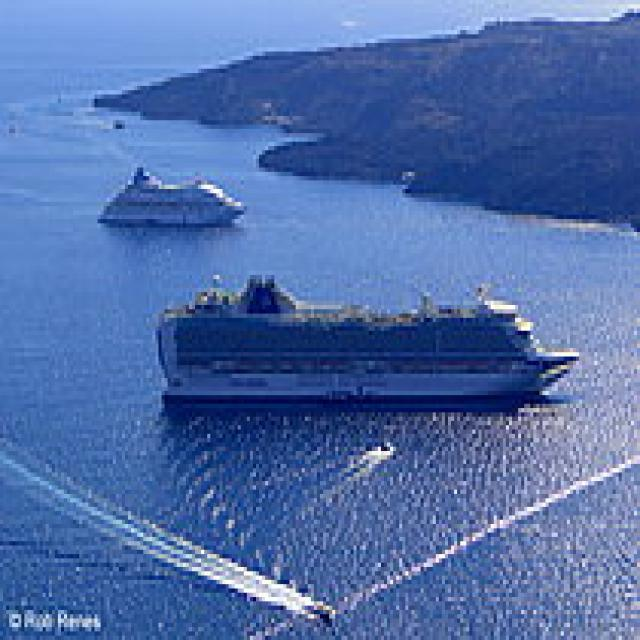Ship: (147, 259, 586, 435)
